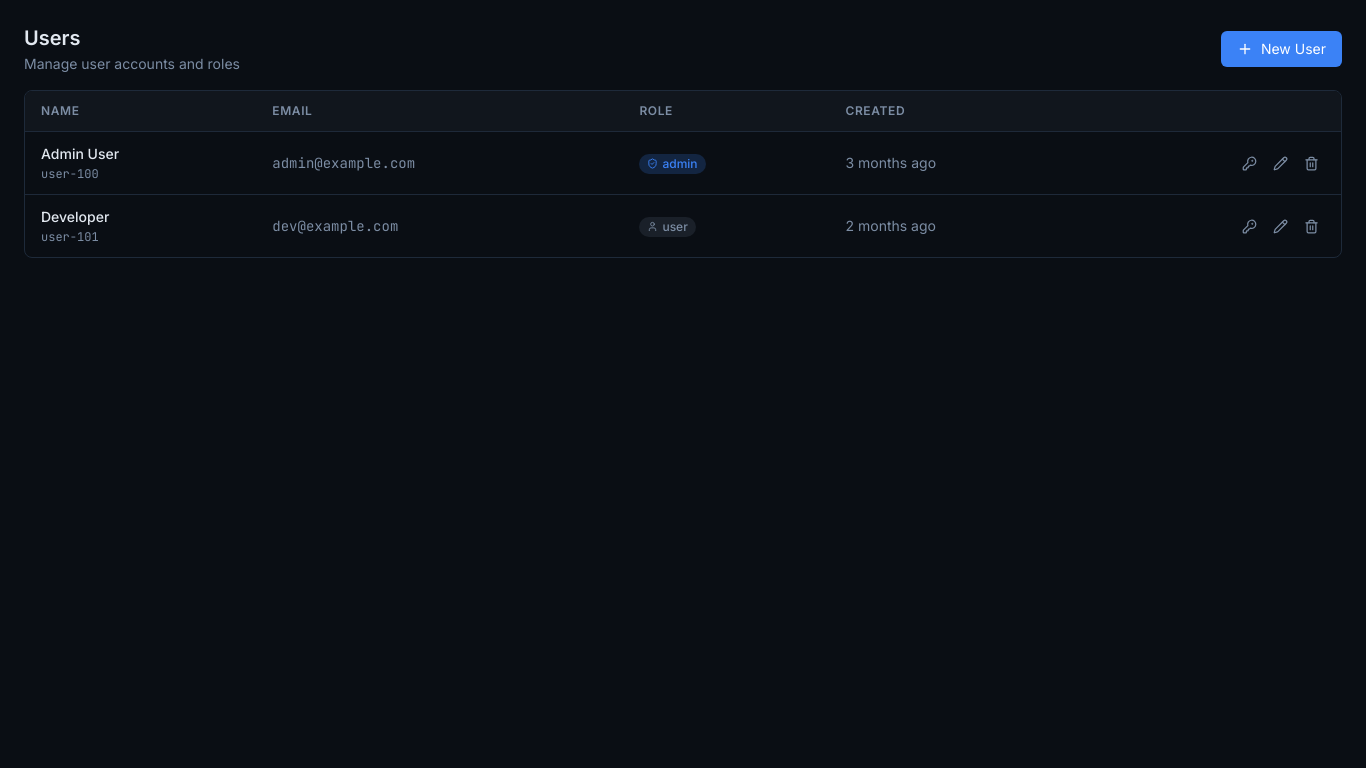
AdminPage › shows delete confirmation dialog when delete button is clicked
The width and height of the screenshot is (1366, 768).
Expected: the text "Admin User" is shown, [41,145,119,162]
Click the button titled "Delete user" in the row of "Admin User": click(1312, 163) [1298,150,1325,176]
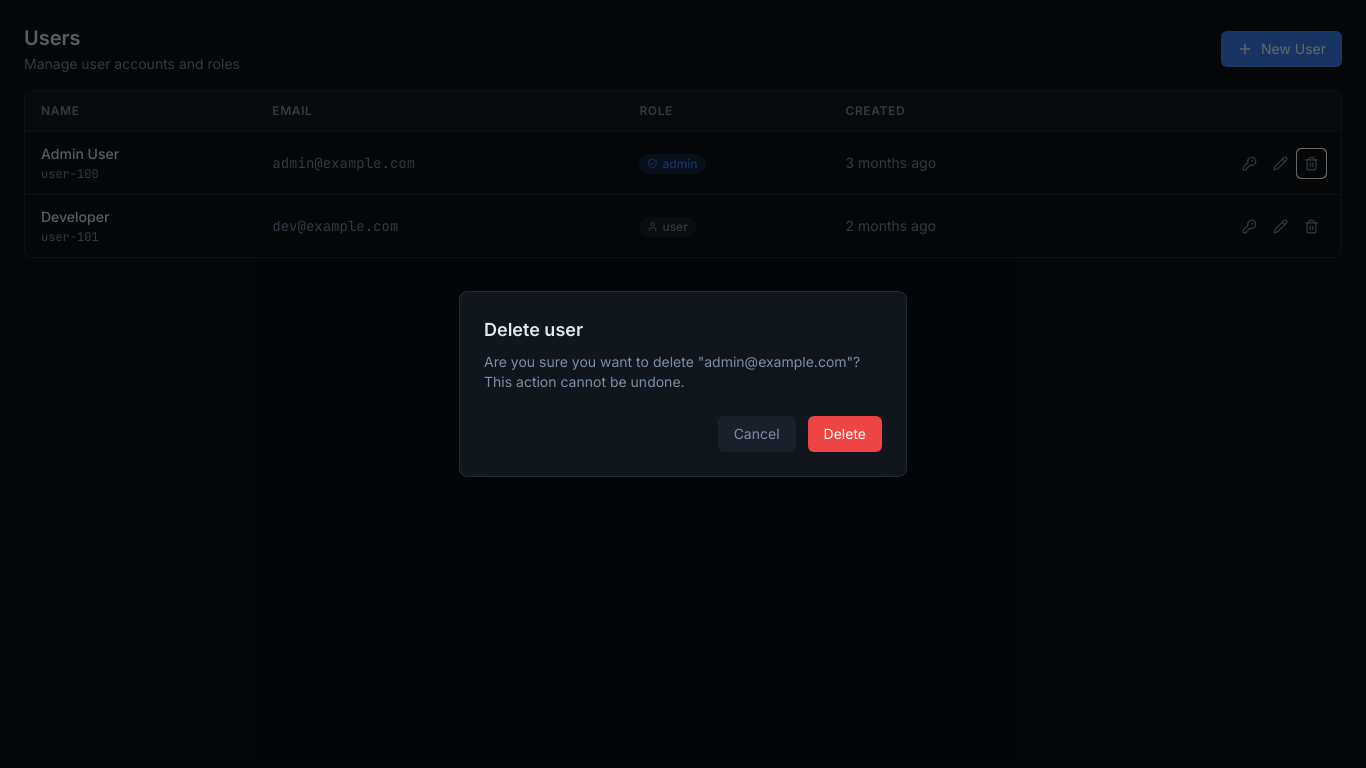
Expected: the text "Are you sure you want to delete \"admin@example.com\"" is shown, [484,353,860,390]
